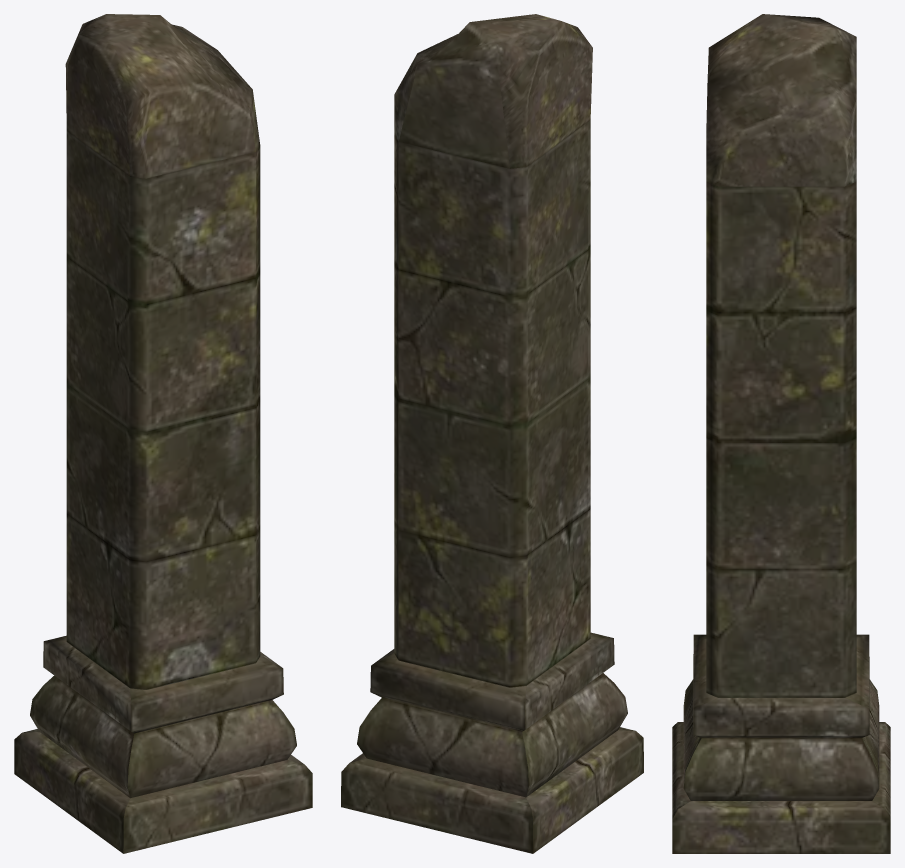
The model's file is Column_Broken_05-transformed.glb.
3 views of the same model, side by side, from view 1: azimuth 30°, elevation 25°; view 2: azimuth 150°, elevation 25°; view 3: azimuth 270°, elevation 25° (orthographic).
Visible parts, largest first — view 1: default; view 2: default; view 3: default.
Boxes of the visible parts, left/top/right/bottom form: default: left=14, top=14, right=312, bottom=853; default: left=341, top=14, right=643, bottom=853; default: left=672, top=14, right=890, bottom=853.
Bounding box in the file's own units: 1.22 × 4.7 × 1.22.
Materials: 1 (1 with a texture image).
